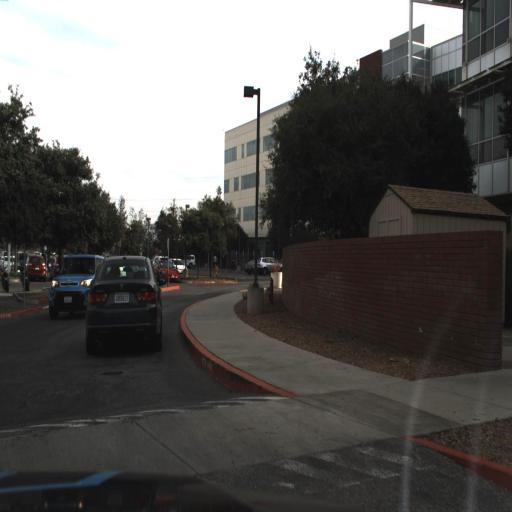car: (81, 249, 164, 358), (46, 245, 94, 319), (147, 257, 181, 282), (155, 255, 179, 287), (257, 250, 281, 276), (184, 247, 196, 268)
